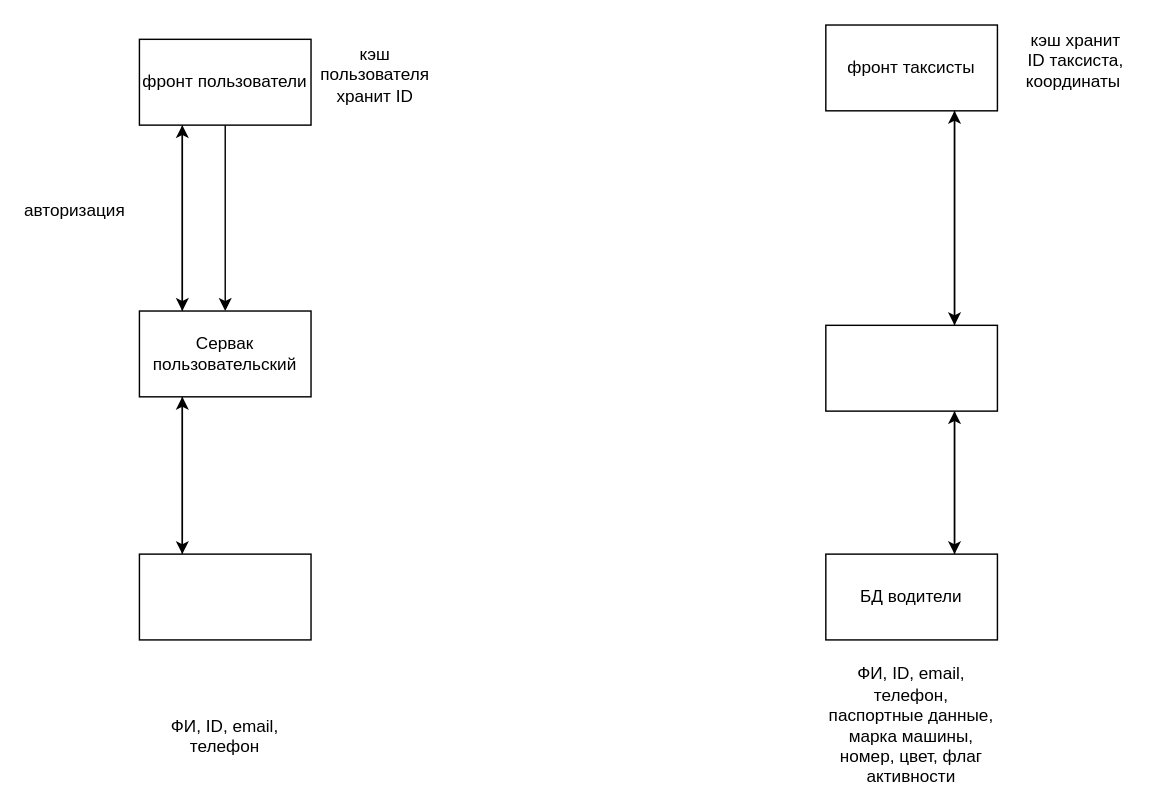
Image size: 1150x812. Some labels were removed from this diagram. Each missing label, with the box of its shape:
БД пользователи: (138, 553, 311, 640)
сервак таксисты: (824, 324, 997, 411)
